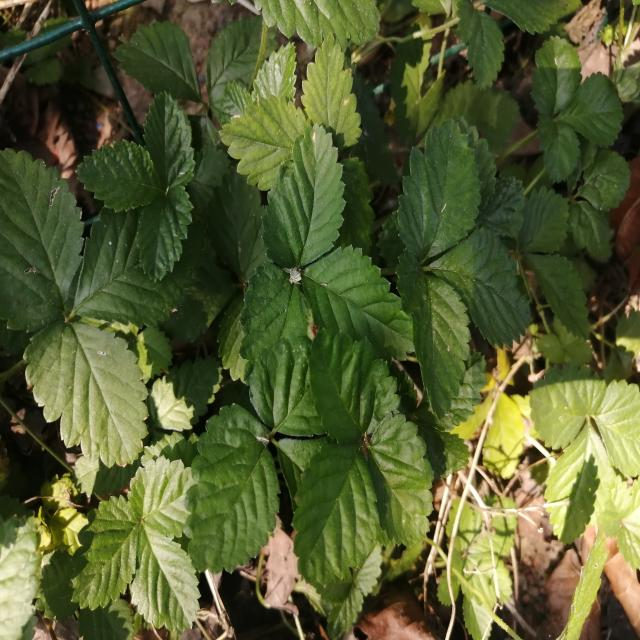Mock_strawberry: (210, 62, 412, 400), (195, 334, 429, 569), (403, 105, 525, 408)
